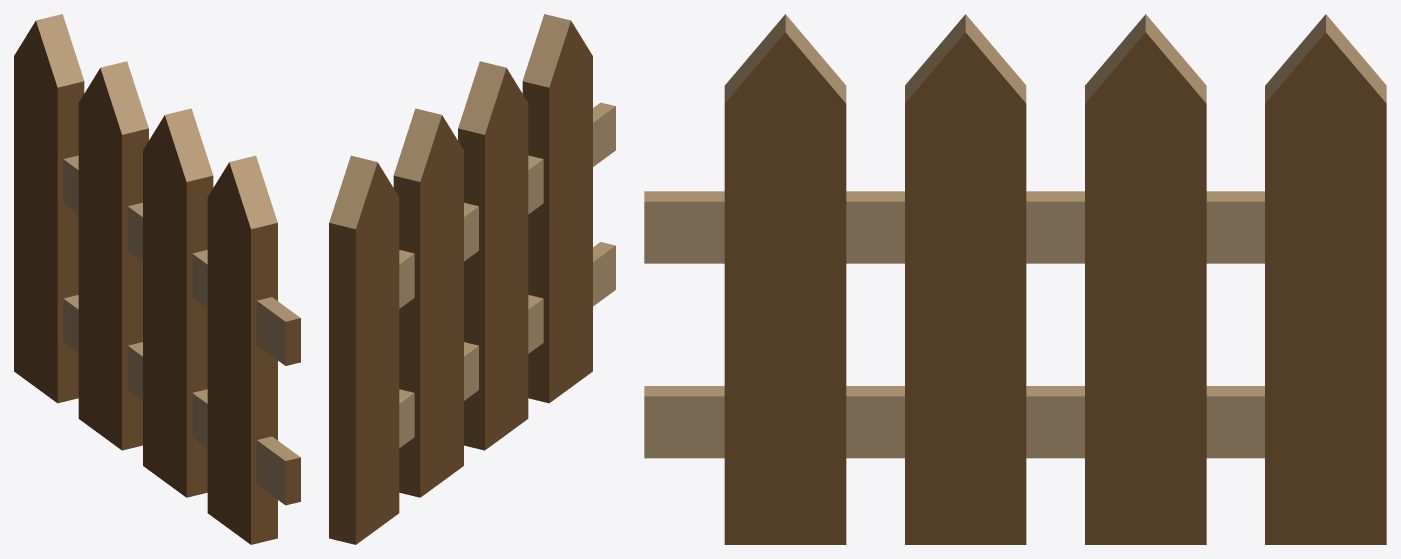
File: SM_Fences.fbx
3 renders of one model, left to right at view 1: azimuth 30°, elevation 25°; view 2: azimuth 150°, elevation 25°; view 3: azimuth 270°, elevation 25°, orthographic. The views are drawn at different scales.
Parts seen in each view (by area): view 1: Fences; view 2: Fences; view 3: Fences.
Boxes of the visible parts, box(x1,y1,x2,y2) form: Fences: box(14, 14, 300, 544); Fences: box(329, 14, 615, 544); Fences: box(644, 14, 1386, 544).
Size of the model in its own units: 14.39 by 188 by 247.
